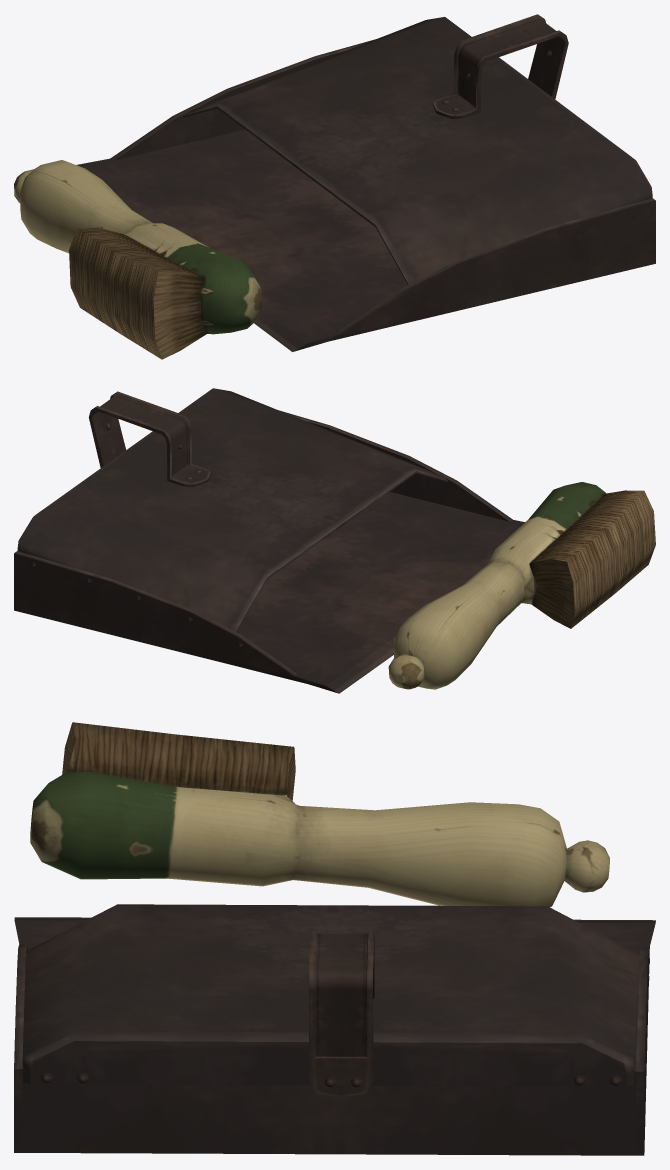
File: DustpanBrush.fbx
The picture shows the model from 3 angles, top to bottom: view 1: azimuth 30°, elevation 25°; view 2: azimuth 150°, elevation 25°; view 3: azimuth 270°, elevation 25°; orthographic projection. The views are drawn at different scales.
Parts seen in each view (by area): view 1: DustpanTop, DustpanBottom, DustpanBrush, DustpanHandle; view 2: DustpanTop, DustpanBottom, DustpanBrush, DustpanHandle; view 3: DustpanTop, DustpanBrush, DustpanBottom, DustpanHandle.
Boxes of the visible parts, left/top/right/bottom form: DustpanTop: left=183, top=17, right=652, bottom=284; DustpanBottom: left=76, top=39, right=655, bottom=351; DustpanBrush: left=14, top=160, right=261, bottom=359; DustpanHandle: left=432, top=14, right=568, bottom=118; DustpanTop: left=17, top=388, right=447, bottom=631; DustpanBottom: left=14, top=410, right=524, bottom=693; DustpanBrush: left=388, top=482, right=655, bottom=689; DustpanHandle: left=88, top=391, right=211, bottom=487; DustpanTop: left=23, top=904, right=639, bottom=1086; DustpanBrush: left=30, top=722, right=609, bottom=907; DustpanBottom: left=14, top=917, right=655, bottom=1155; DustpanHandle: left=309, top=930, right=374, bottom=1097.
Size of the model in its own units: 38.9 by 11.83 by 31.91.
